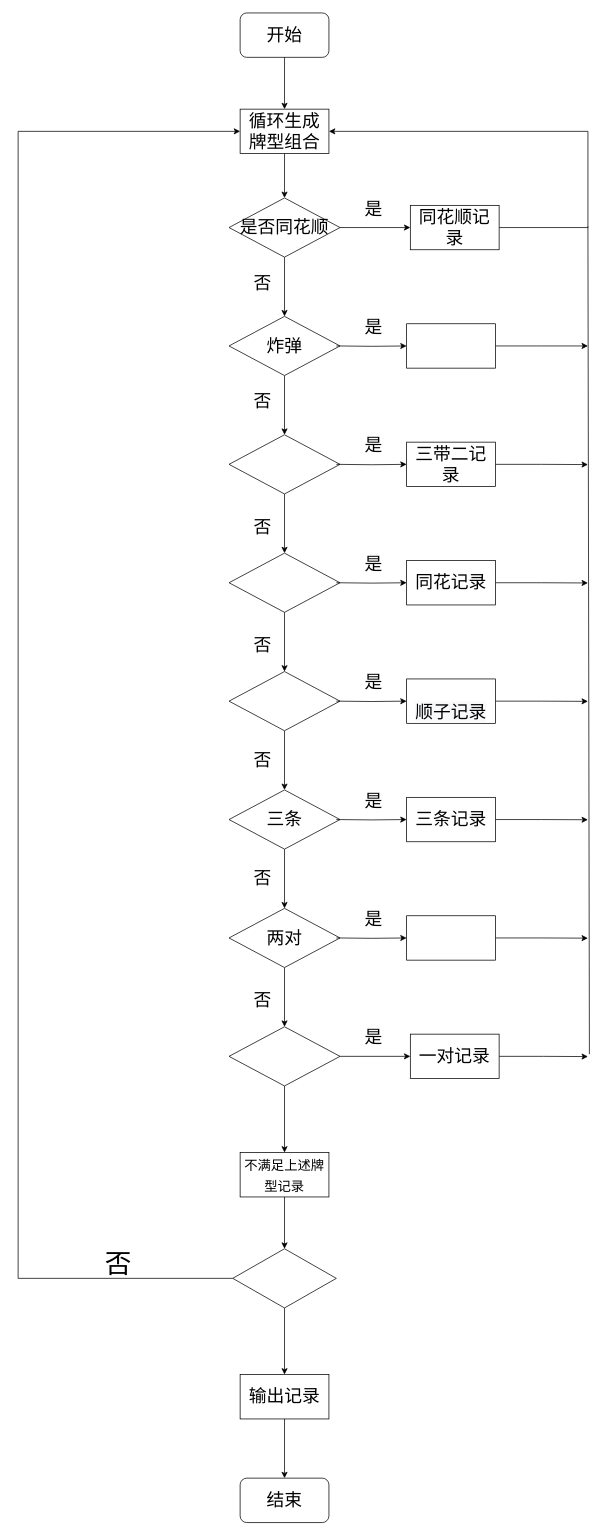
This 607x1536 diagram has some shape labels left out. The centre of each missing label's shape, as x and y in pixels:
一对: the point at 284,1056
三带二: the point at 284,464
两队记录: the point at 450,937
同花: the point at 284,582
是否列出所有牌型: the point at 284,1278
炸弹记录: the point at 450,345
顺子: the point at 284,701
